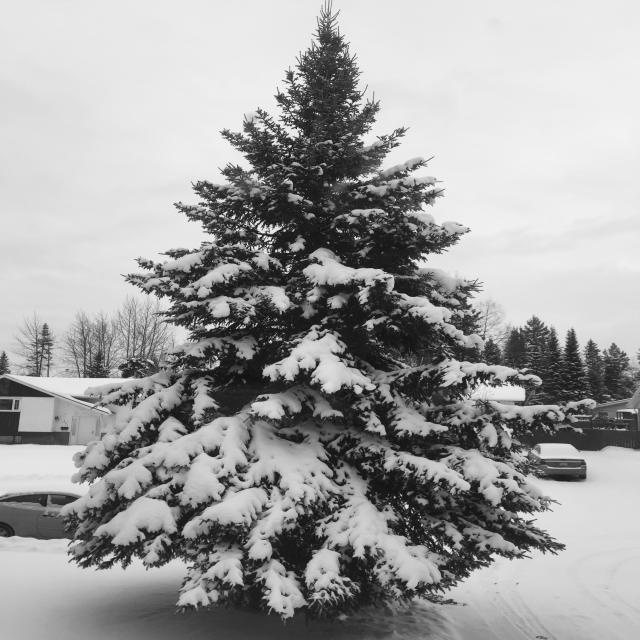Christmas-tree: (73, 0, 560, 616)
